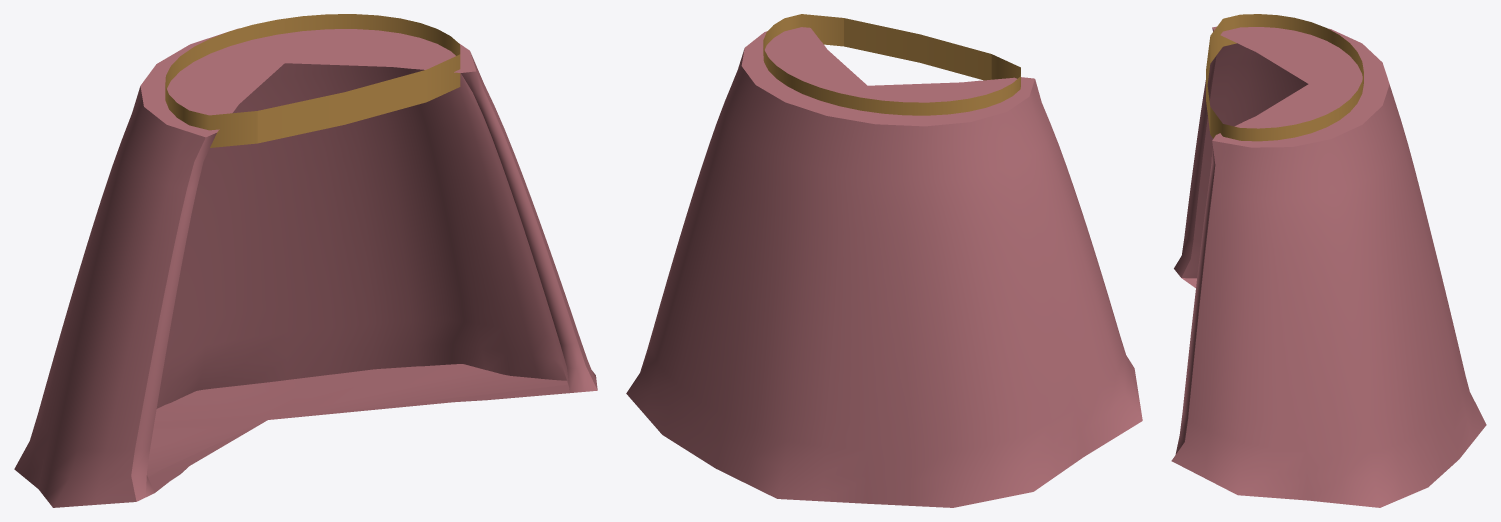
Rendered from cape_long.glb.
3 renders of one model, left to right at view 1: azimuth 30°, elevation 25°; view 2: azimuth 150°, elevation 25°; view 3: azimuth 270°, elevation 25°, orthographic. The views are drawn at different scales.
Parts seen in each view (by area): view 1: cape_long; view 2: cape_long; view 3: cape_long.
Boxes of the visible parts, x1,y1,x2,y2 form: cape_long: [14, 14, 597, 507]; cape_long: [626, 14, 1142, 507]; cape_long: [1171, 14, 1486, 507].
Size of the model in its own units: 0.8354 by 0.606 by 0.4897.
